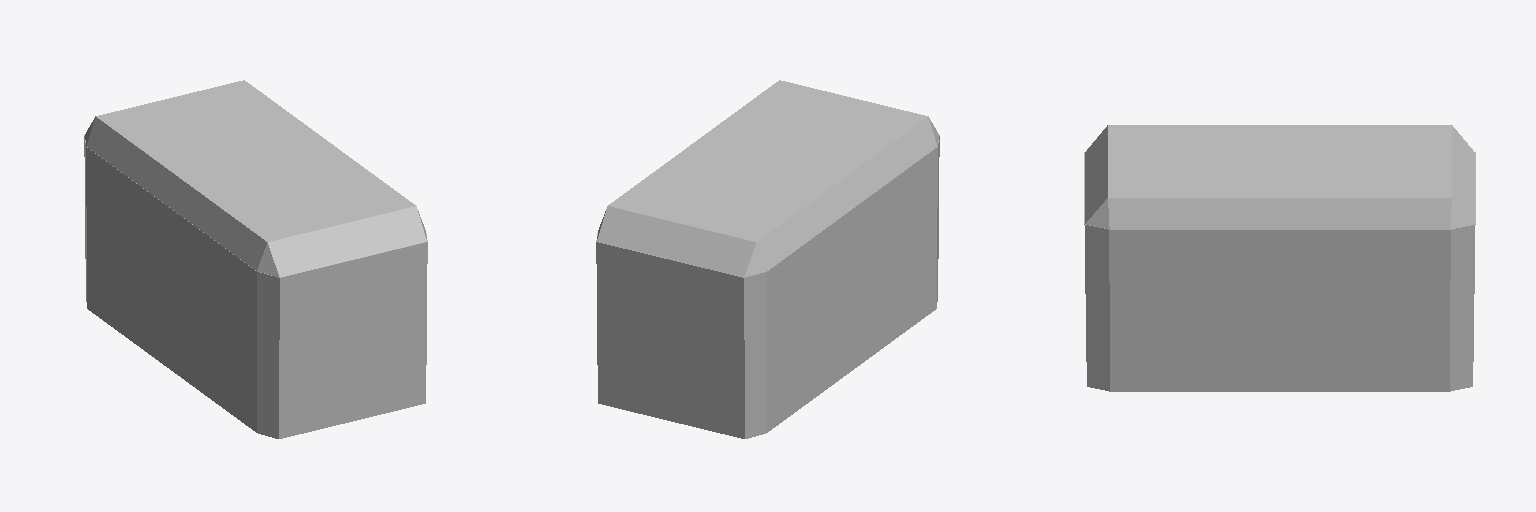
File: Chest.obj
3 renders of one model, left to right at view 1: azimuth 30°, elevation 25°; view 2: azimuth 150°, elevation 25°; view 3: azimuth 270°, elevation 25°, orthographic.
Visible parts, largest first — view 1: Chest_low_Cube.040; view 2: Chest_low_Cube.040; view 3: Chest_low_Cube.040.
Part boxes in pixels (x1,y1,x2,y2): Chest_low_Cube.040: (84, 80, 427, 438); Chest_low_Cube.040: (596, 80, 939, 438); Chest_low_Cube.040: (1084, 125, 1475, 391).
Bounding box in the file's own units: 1.06 × 1.13 × 2.11.